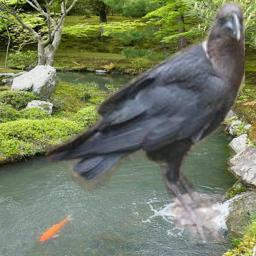Crow: (45, 2, 245, 243)
